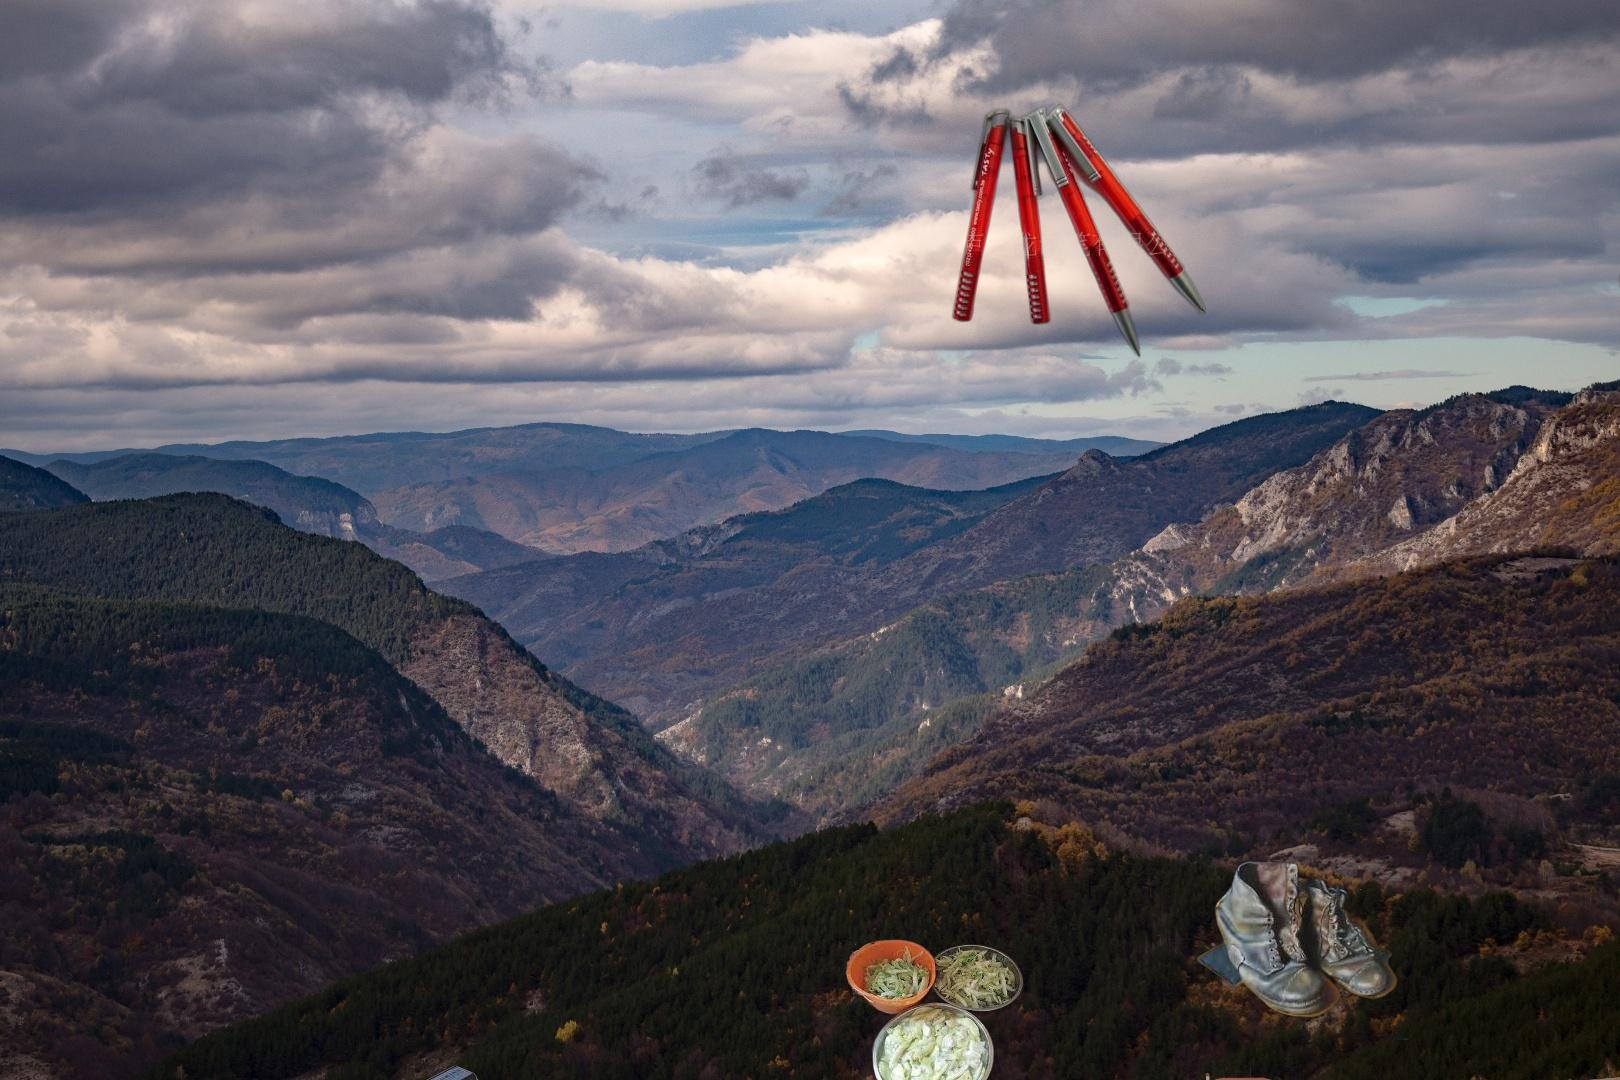battery: (344, 1045, 521, 1080)
biological: (839, 937, 1032, 1080)
paper: (1616, 51, 1620, 435)
penholder: (950, 100, 1209, 359)
shoes: (1173, 856, 1433, 1040)
